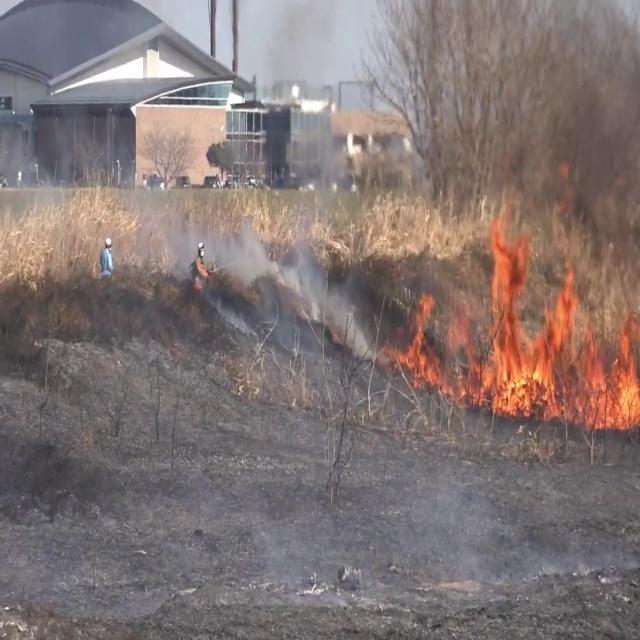Fire: (478, 215, 640, 427), (387, 284, 480, 424)
Smoke: (288, 244, 376, 362)
